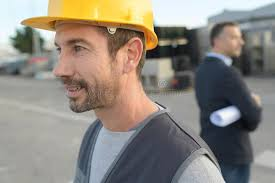Person_wearing_helmet: (20, 0, 163, 72)
